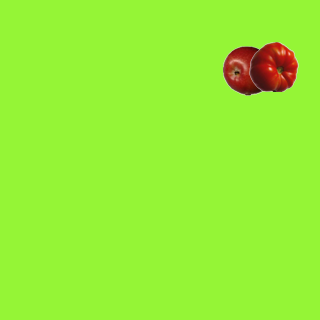Apple Braeburn: (222, 45, 272, 95)
Tomato 3: (248, 41, 298, 91)
